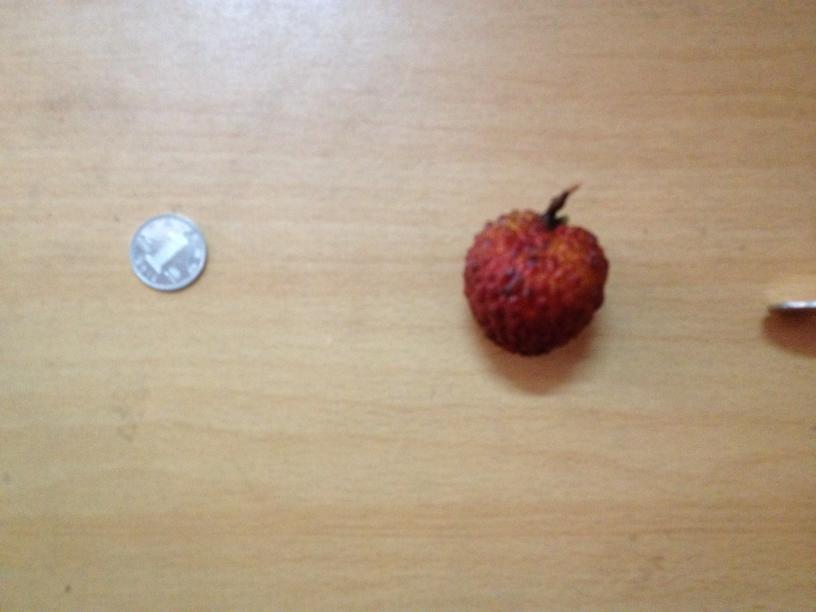coin: (127, 216, 206, 291)
litchi: (465, 207, 608, 356)
